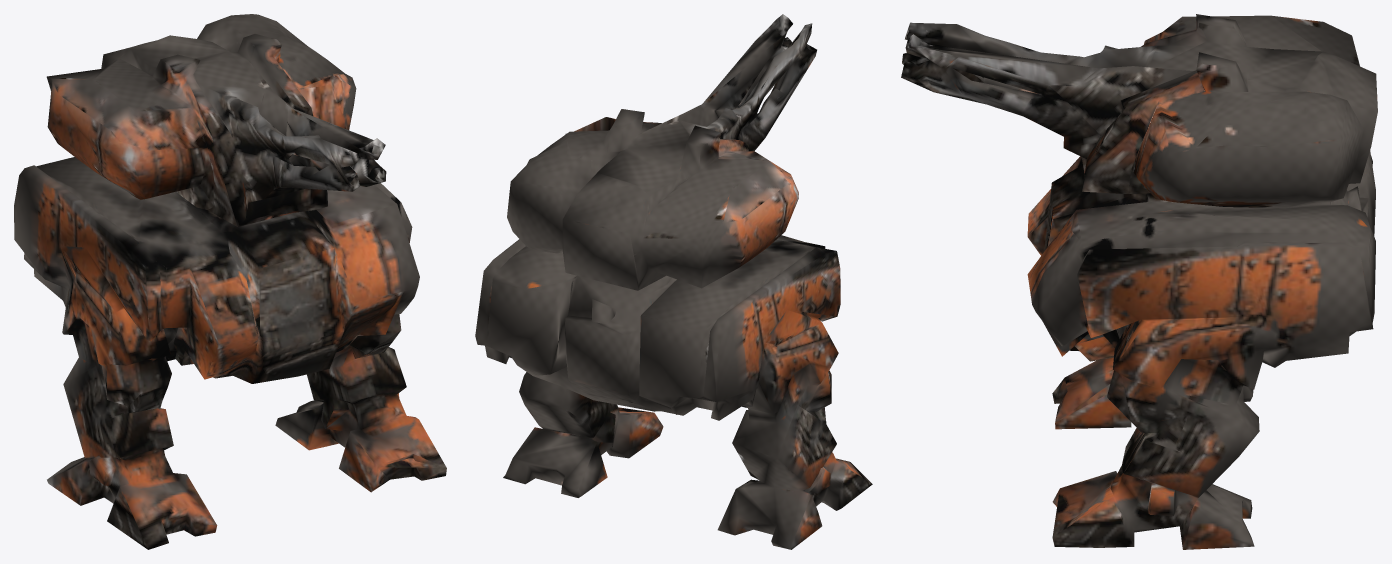
The model's file is flakjack_lod2.glb.
The picture shows the model from 3 angles, left to right: view 1: azimuth 30°, elevation 25°; view 2: azimuth 150°, elevation 25°; view 3: azimuth 270°, elevation 25°; orthographic projection. The views are drawn at different scales.
Parts seen in each view (by area): view 1: geometry_0; view 2: geometry_0; view 3: geometry_0.
Part boxes in pixels (box(x1,y1,x2,y2)): geometry_0: box(14, 14, 446, 549); geometry_0: box(475, 14, 872, 549); geometry_0: box(901, 14, 1377, 549).
Bounding box in the file's own units: 1.54 × 2 × 1.95.
Materials: 1 (1 with a texture image).
